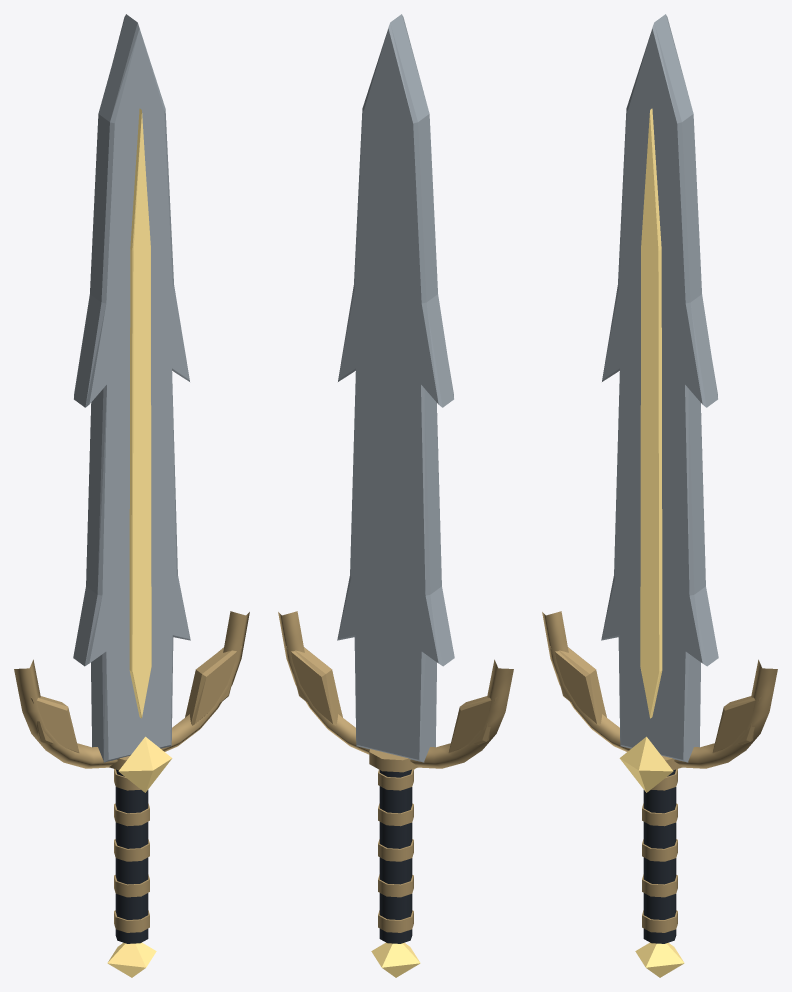
Rendered from universal-low.glb.
The picture shows the model from 3 angles, left to right: view 1: azimuth 30°, elevation 25°; view 2: azimuth 150°, elevation 25°; view 3: azimuth 330°, elevation 25°; orthographic projection.
Visible parts, largest first — view 1: Grovekeeper Blade; view 2: Grovekeeper Blade; view 3: Grovekeeper Blade.
Boxes of the visible parts, x1,y1,x2,y2 form: Grovekeeper Blade: [14, 14, 249, 977]; Grovekeeper Blade: [278, 14, 513, 977]; Grovekeeper Blade: [542, 14, 777, 977].
Size of the model in its own units: 0.3052 by 1.19 by 0.0795.
